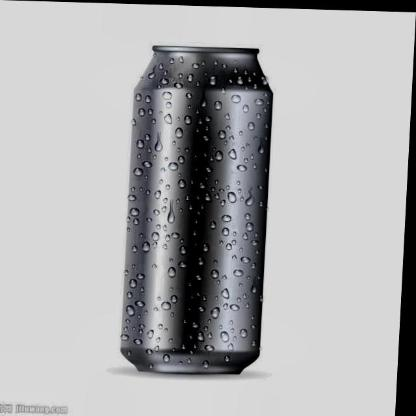Can: (119, 37, 284, 384)
